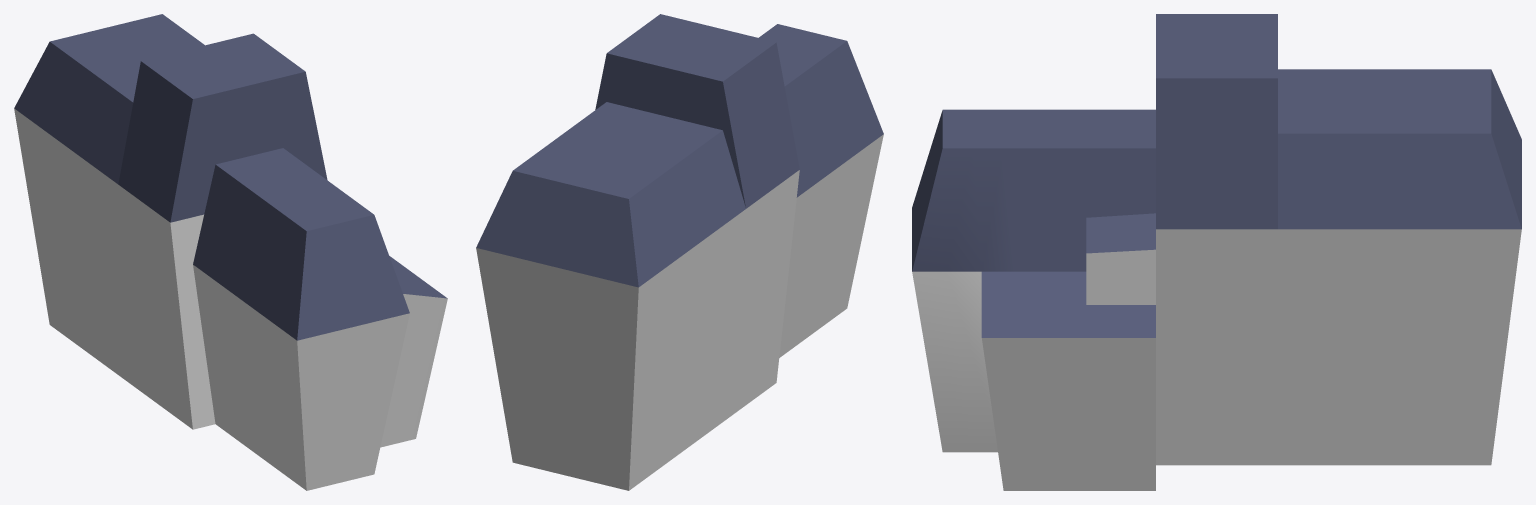
The model's file is paris_building_scaled_med_03.fbx.
3 views of the same model, side by side, from view 1: azimuth 30°, elevation 25°; view 2: azimuth 150°, elevation 25°; view 3: azimuth 270°, elevation 25° (orthographic). The views are drawn at different scales.
Parts seen in each view (by area): view 1: Cube-col; view 2: Cube-col; view 3: Cube-col.
Boxes of the visible parts, x1=… form: Cube-col: x1=14, y1=14, x2=447, y2=490; Cube-col: x1=476, y1=14, x2=883, y2=490; Cube-col: x1=912, y1=14, x2=1521, y2=490.
Bounding box in the file's own units: 900 × 1400 × 2000.
